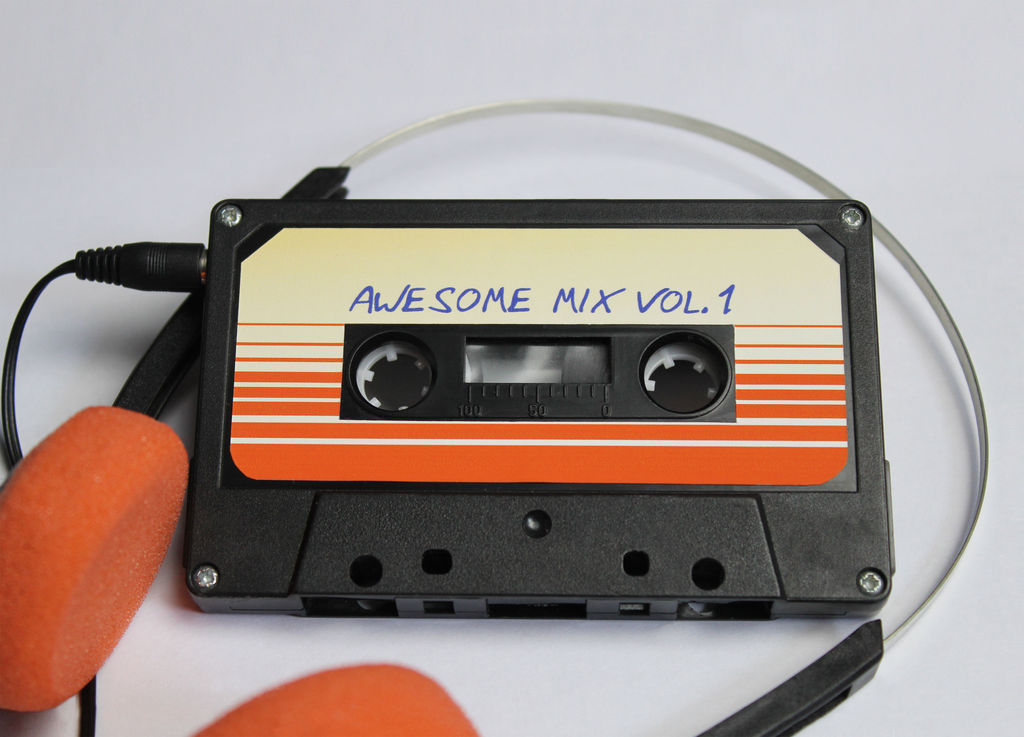Nonrec_Other: (128, 158, 930, 621)
